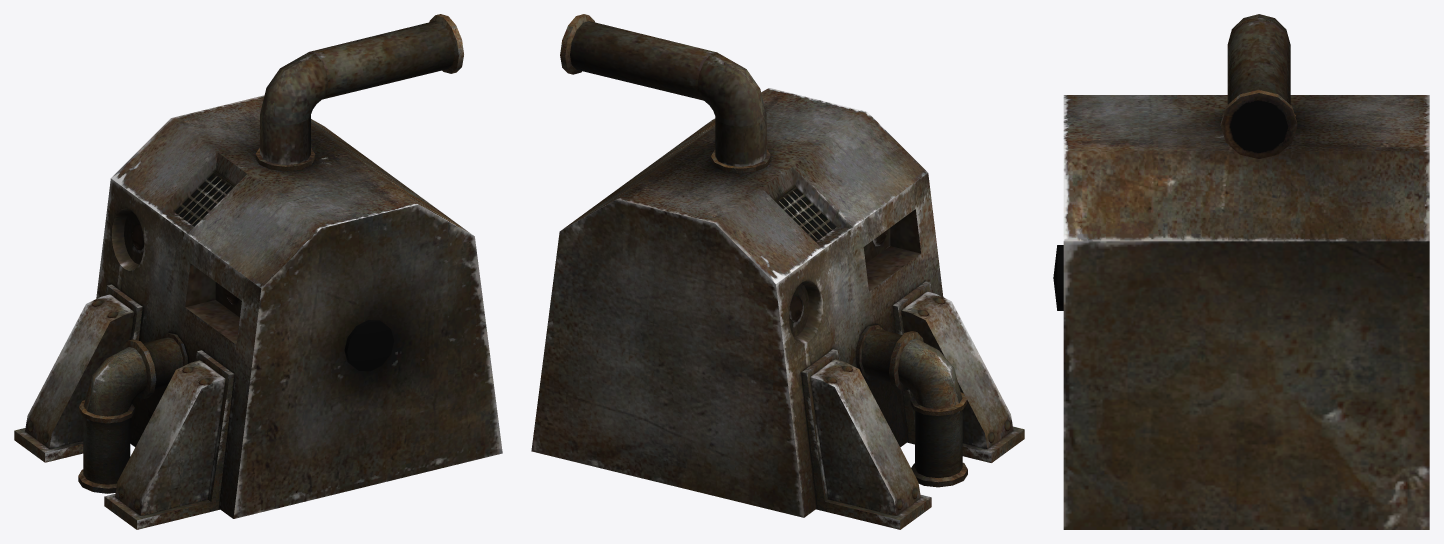
File: barrier_machine.dae
3 renders of one model, left to right at view 1: azimuth 30°, elevation 25°; view 2: azimuth 150°, elevation 25°; view 3: azimuth 270°, elevation 25°, orthographic. The views are drawn at different scales.
Visible parts, largest first — view 1: polySurface1; view 2: polySurface1; view 3: polySurface1.
Boxes of the visible parts, x1=… form: polySurface1: x1=14, y1=14, x2=502, y2=529; polySurface1: x1=531, y1=14, x2=1024, y2=529; polySurface1: x1=1053, y1=14, x2=1429, y2=529.
Bounding box in the file's own units: 2.1 × 1.99 × 1.49.
